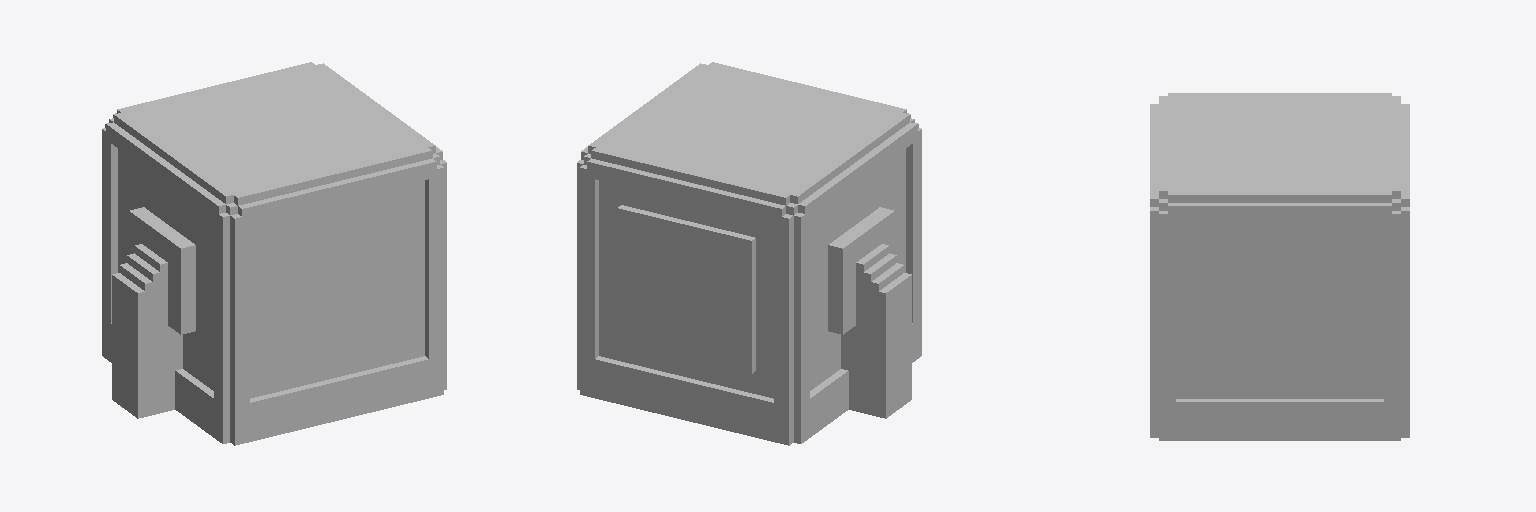
File: generator.obj
3 views of the same model, side by side, from view 1: azimuth 30°, elevation 25°; view 2: azimuth 150°, elevation 25°; view 3: azimuth 270°, elevation 25° (orthographic).
Parts seen in each view (by area): view 1: object 1; view 2: object 1; view 3: object 1.
Part boxes in pixels (left/top/right/bottom): object 1: left=102, top=62, right=446, bottom=445; object 1: left=577, top=62, right=921, bottom=445; object 1: left=1150, top=93, right=1409, bottom=440.
Size of the model in its own units: 3.5 by 3.1 by 3.